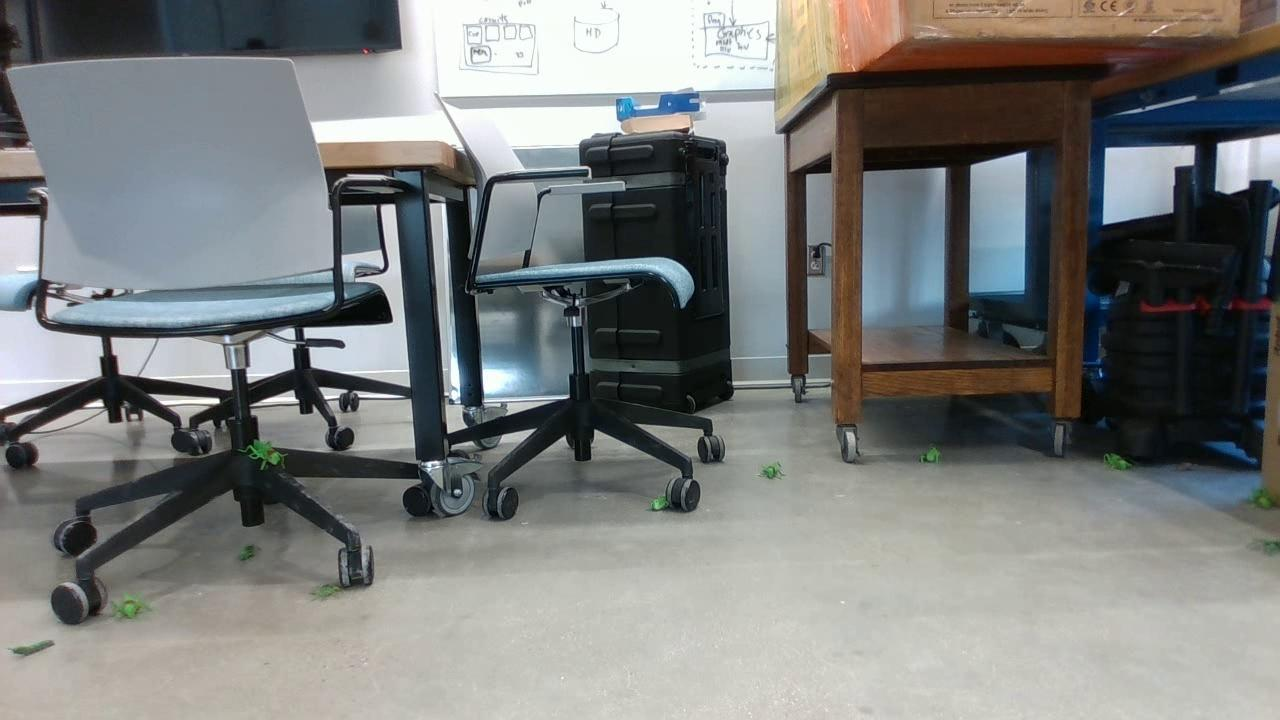grasshopper: (245, 438, 288, 468), (107, 591, 152, 617), (1094, 449, 1136, 473), (1248, 491, 1276, 515), (919, 448, 951, 467), (752, 461, 786, 478), (648, 492, 674, 512)
